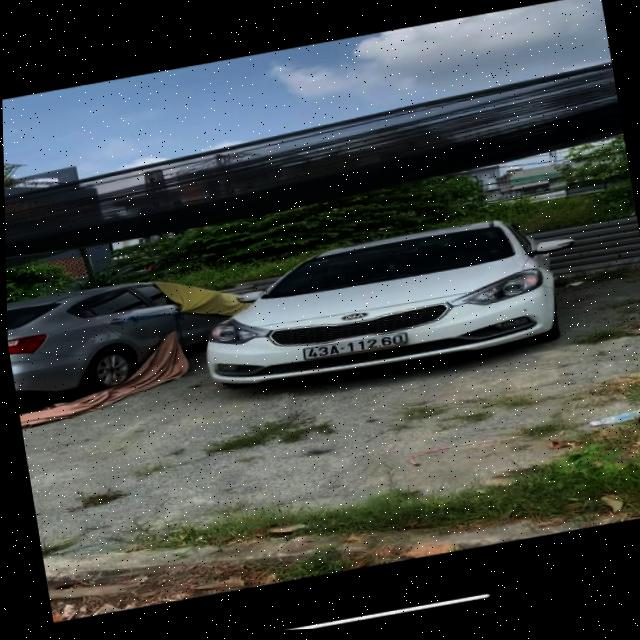car: (192, 195, 576, 414), (6, 267, 202, 435)
plate: (289, 316, 422, 374)
